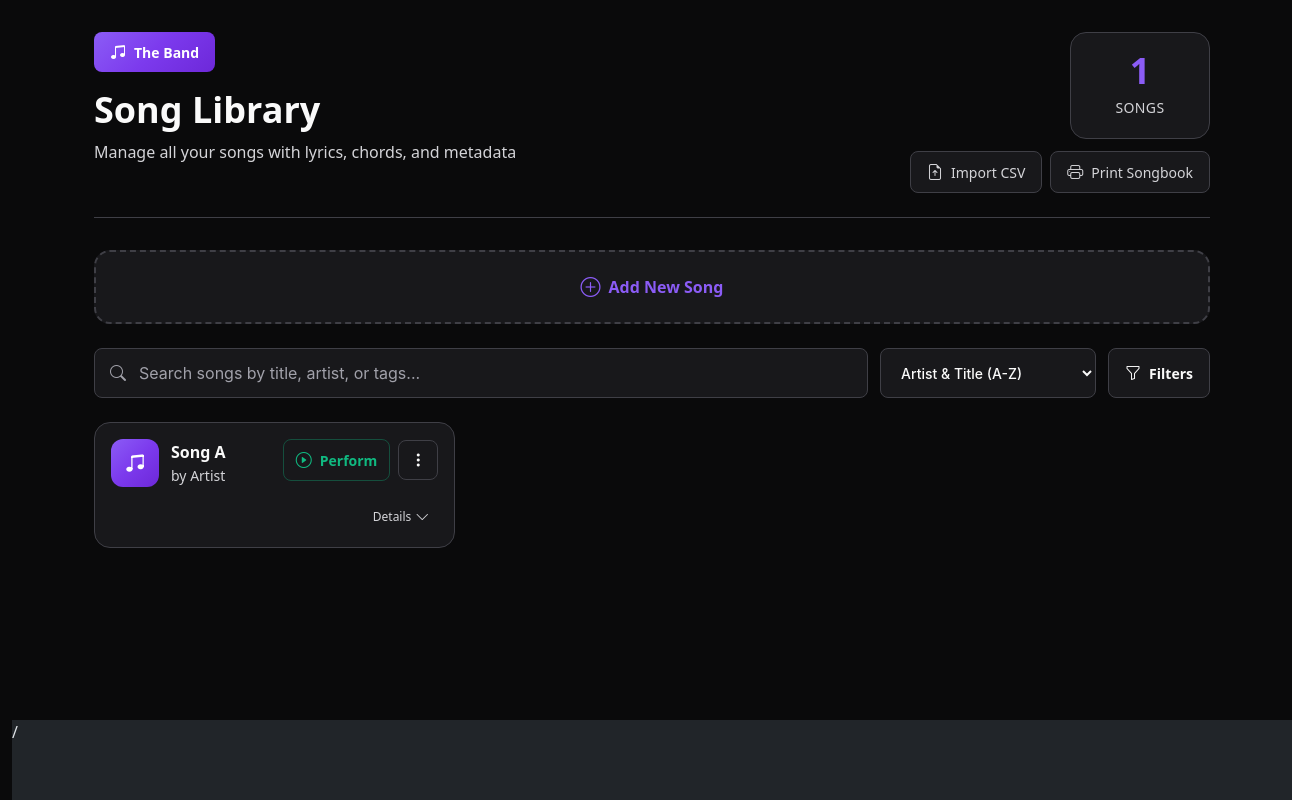
Test case: role member › SongsView: Perform is shown to every role and opens the song's perform route
The width and height of the screenshot is (1292, 800).
Expected: the heading "Song A" is shown, top-left (171, 440), bottom-right (226, 462)
Click the button "Perform" at (336, 460), box top-left (283, 439), bottom-right (390, 481)
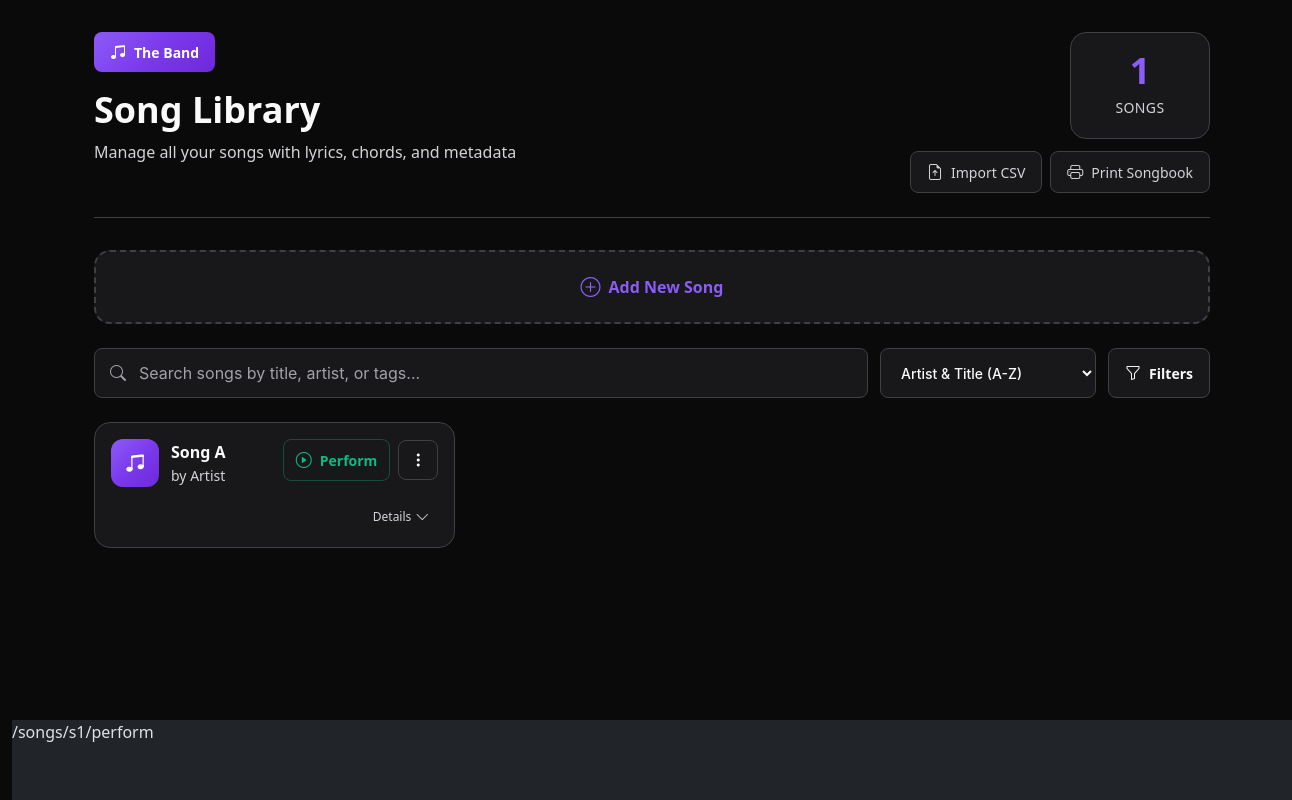
Expected: the text with test id "location" reads "/songs/s1/perform", top-left (12, 721), bottom-right (154, 743)
